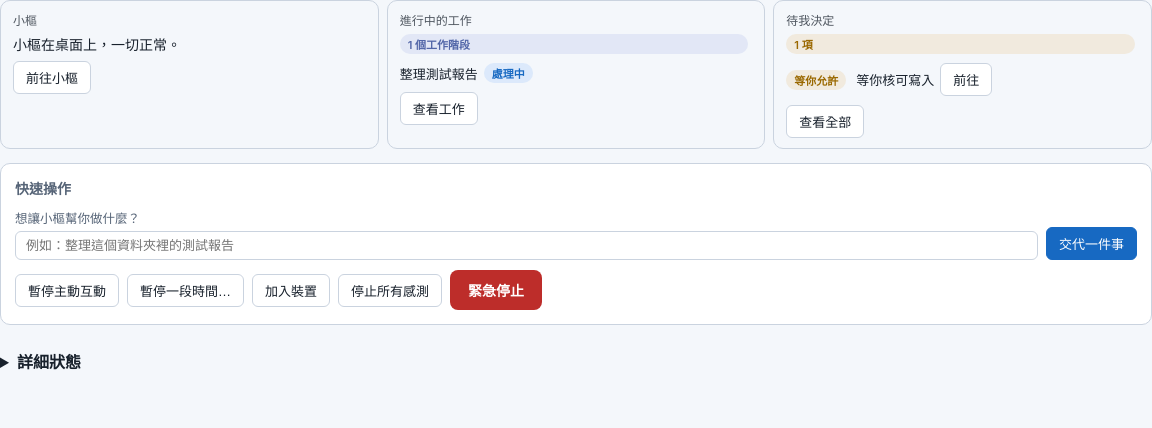
Test: 快速操作：停止所有感測（誠實階梯） › 舊 daemon 的 {stopped:true}＋重讀沒有感測：才敢說已停止感測
Expected: the text "小樞在桌面上，一切正常。" is shown, [13,36,181,53]
Click the button "停止所有感測".
click(390, 290)  # box [338,274,442,306]
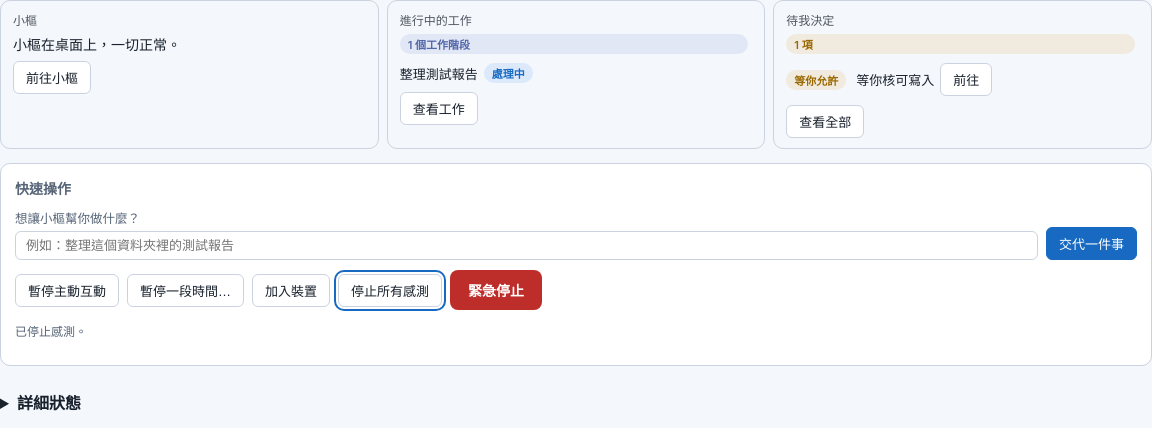
Now the text "已停止感測。" is shown, box [15,324,87,339]
